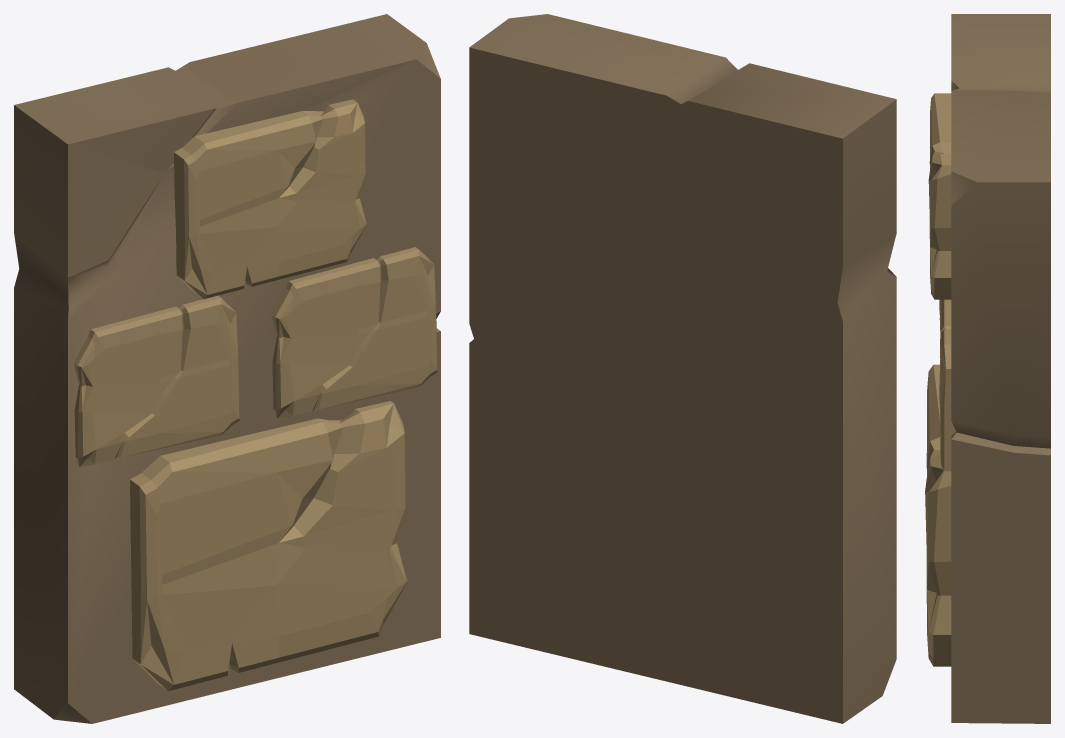
The model's file is Pared-2.FBX.
3 renders of one model, left to right at view 1: azimuth 30°, elevation 25°; view 2: azimuth 150°, elevation 25°; view 3: azimuth 270°, elevation 25°, orthographic. The views are drawn at different scales.
Parts seen in each view (by area): view 1: Pared-1; view 2: Pared-1; view 3: Pared-1.
Part boxes in pixels (<box>): Pared-1: <box>14,14,440,723</box>; Pared-1: <box>469,14,896,723</box>; Pared-1: <box>925,14,1050,723</box>.
Bounding box in the file's own units: 200 × 300 × 63.17.
1 material, 1 textured.
